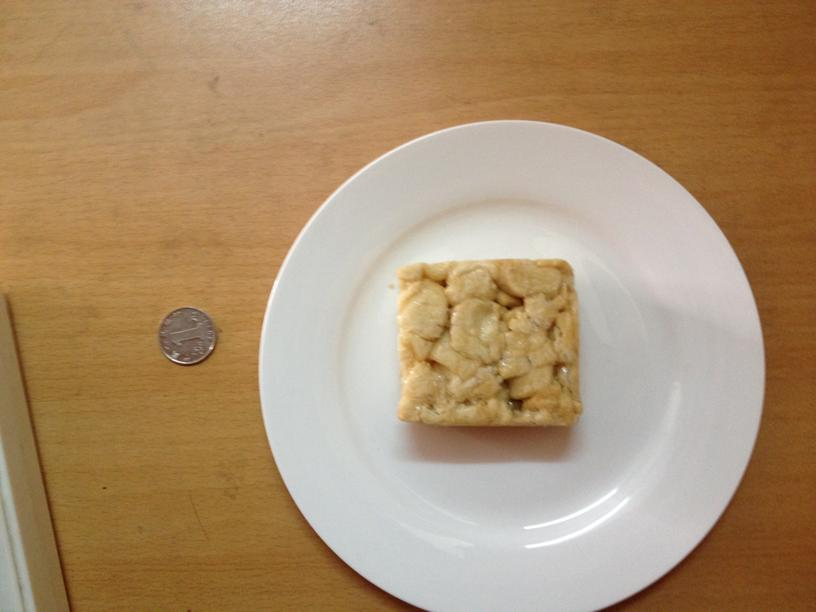coin: (153, 306, 220, 362)
sachima: (392, 257, 582, 431)
